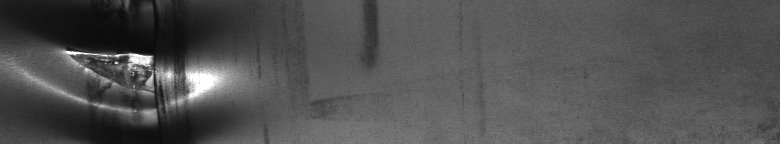ke: (23, 4, 197, 128)
